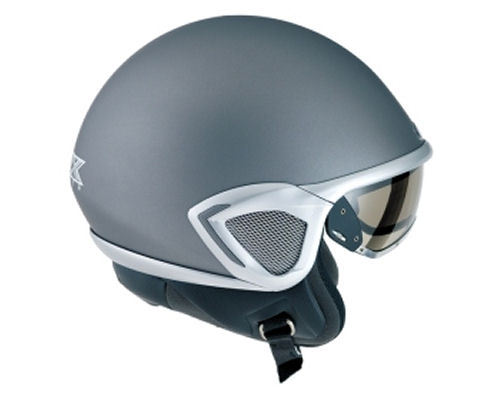helmet: (64, 23, 421, 288)
